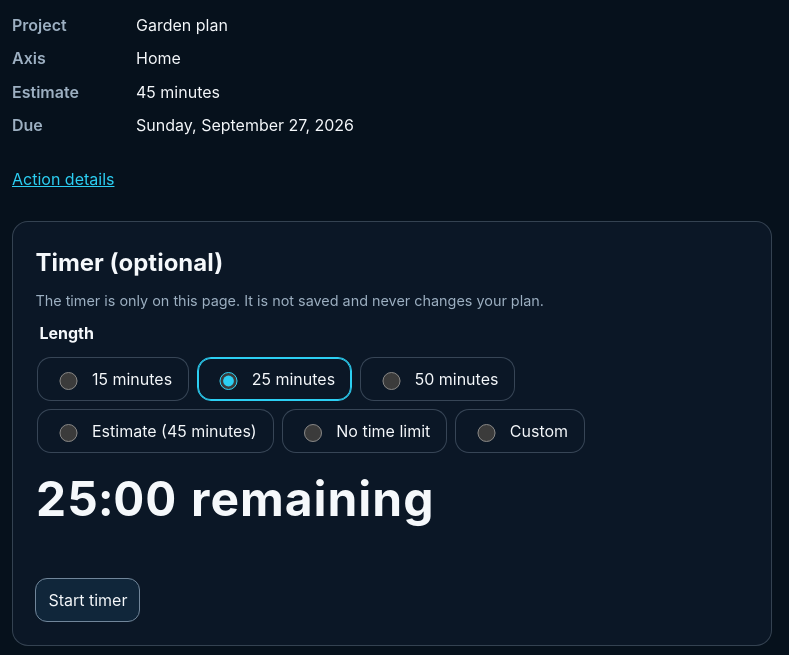
FocusPage timer › counts up without a time limit and uses the estimate as a length
The width and height of the screenshot is (789, 655).
Step 1. Click the radio button labelled "No time limit" → point(313, 433), box top-left (304, 424), bottom-right (322, 442)
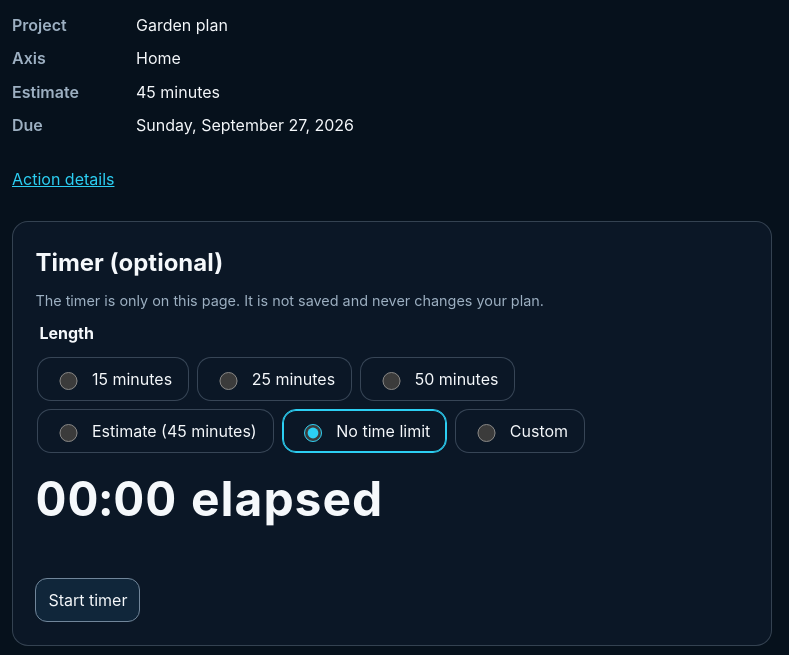
Now the text "00:00 elapsed" is shown, box top-left (35, 469), bottom-right (383, 528)
Step 2. Click the button "Start timer" → point(88, 600), box top-left (35, 578), bottom-right (140, 622)
Wait 200010 ms
(page scrolled)
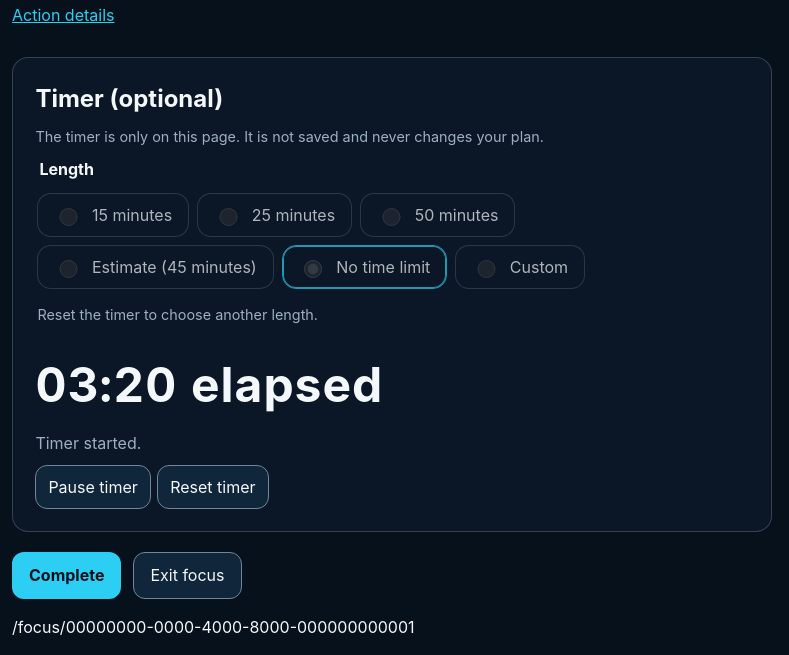
Now the text "03:20 elapsed" is shown, box top-left (35, 356), bottom-right (383, 414)
Step 3. Click the button "Reset timer" → point(213, 487), box top-left (157, 465), bottom-right (269, 509)
(page scrolled)
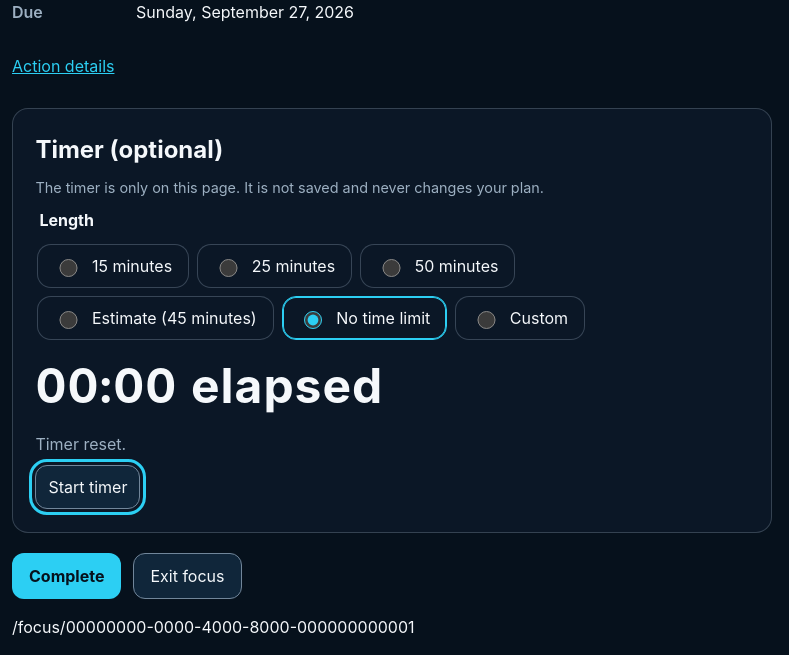
Step 4. Click the radio button labelled "Estimate (45 minutes)" → point(69, 320), box top-left (59, 311), bottom-right (78, 329)
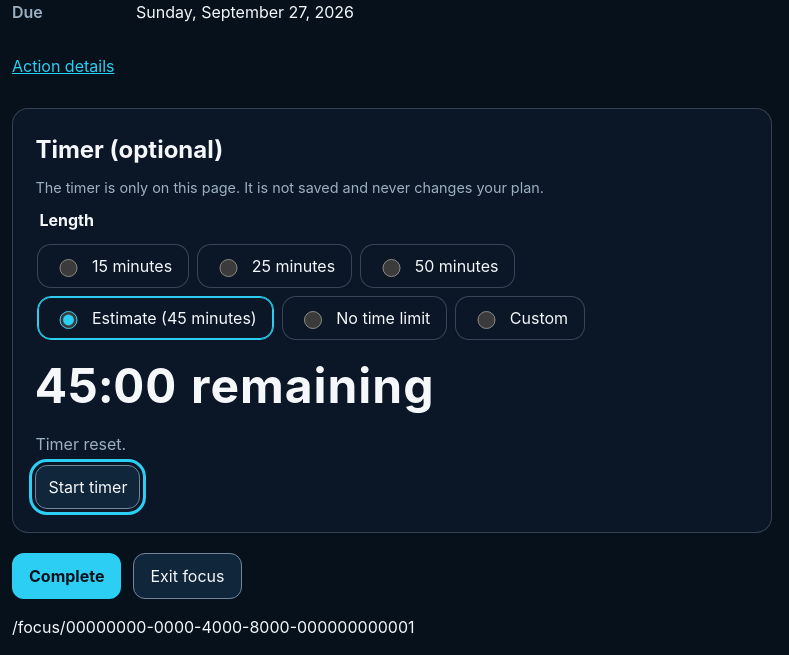
Now the text "45:00 remaining" is shown, box top-left (35, 356), bottom-right (434, 415)
